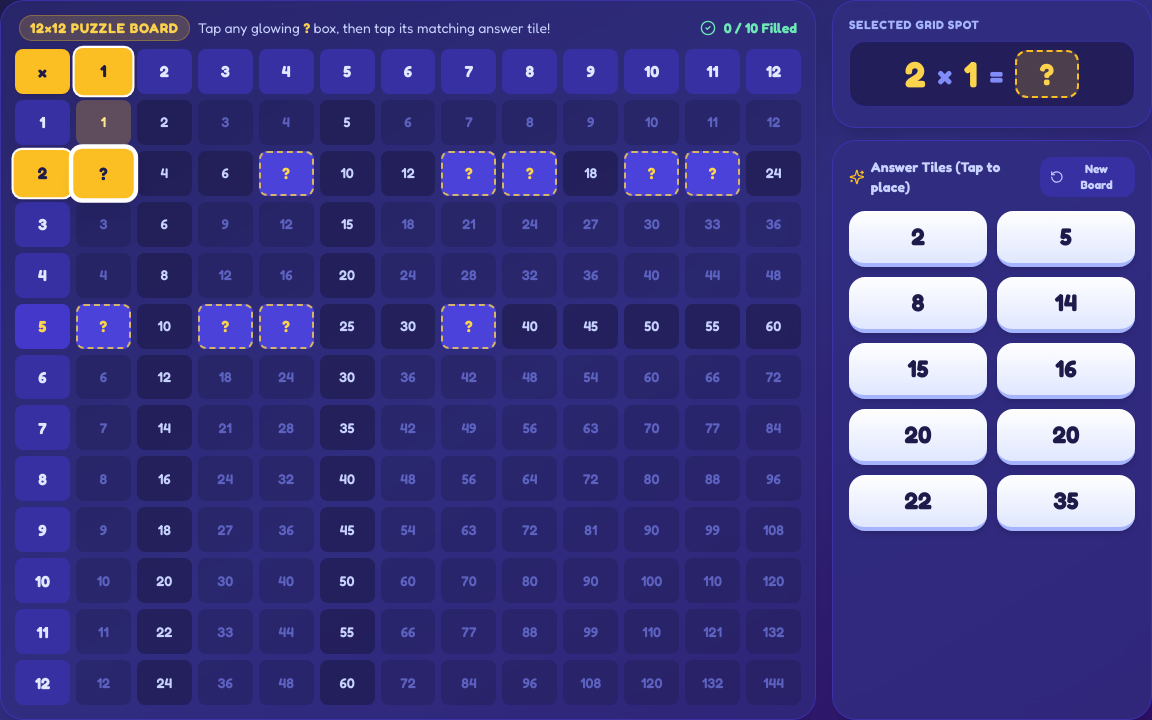
Test case: GridDetectiveMode › renders 10 missing (?) cells and 10 answer tiles, and removes used answer tiles as they are matched
The image size is (1152, 720).
Expected: the text "0 / 10 Filled" is shown, [724, 18, 797, 38]
Click the button "2".
click(918, 239)  # box [849, 211, 987, 267]
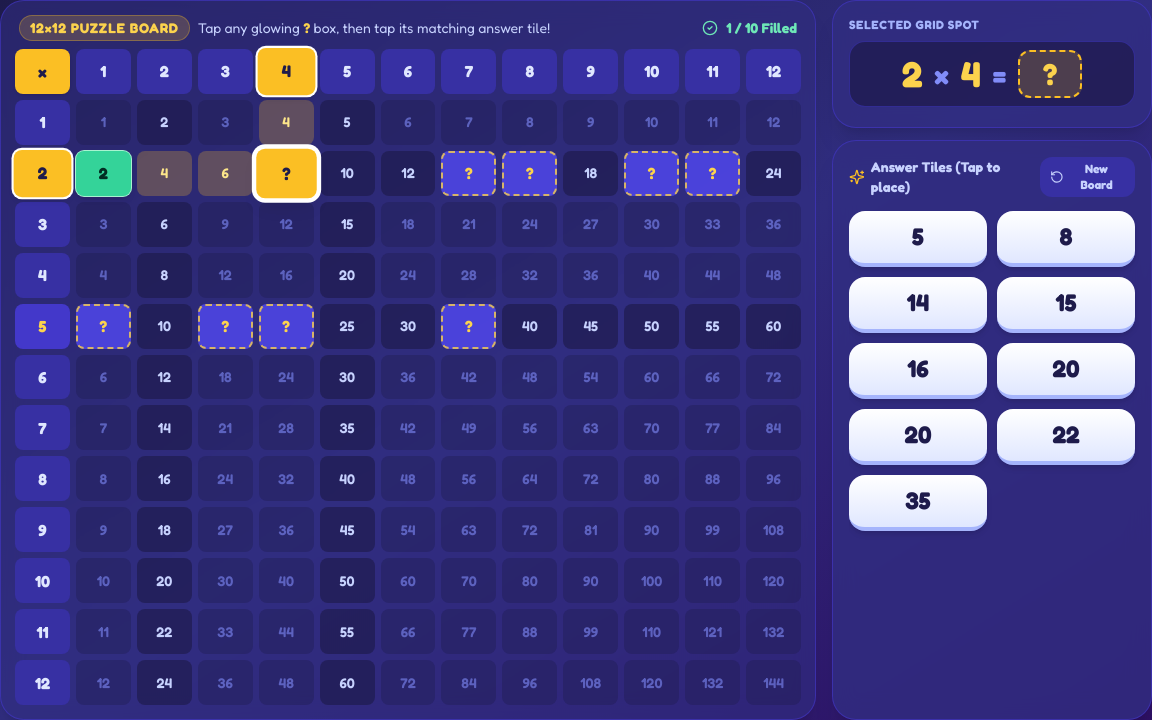
Expected: the text "1 / 10 Filled" is shown, [726, 18, 797, 38]
